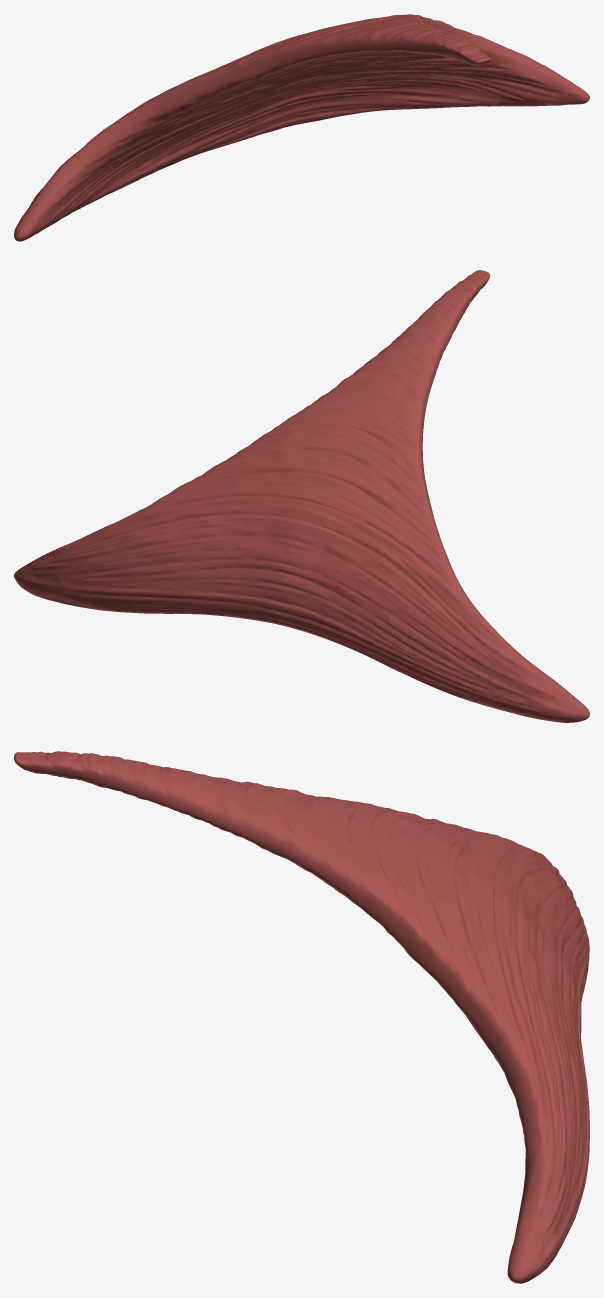
File: FMA61970.glb
3 renders of one model, top to bottom at view 1: azimuth 30°, elevation 25°; view 2: azimuth 150°, elevation 25°; view 3: azimuth 270°, elevation 25°, orthographic. The views are drawn at different scales.
Visible parts, largest first — view 1: FMA61970; view 2: FMA61970; view 3: FMA61970.
Part boxes in pixels (x1,y1,x2,y2): FMA61970: [14, 14, 589, 241]; FMA61970: [14, 270, 589, 722]; FMA61970: [14, 751, 589, 1283].
Bounding box in the file's own units: 0.0463 × 0.0192 × 0.0292.
